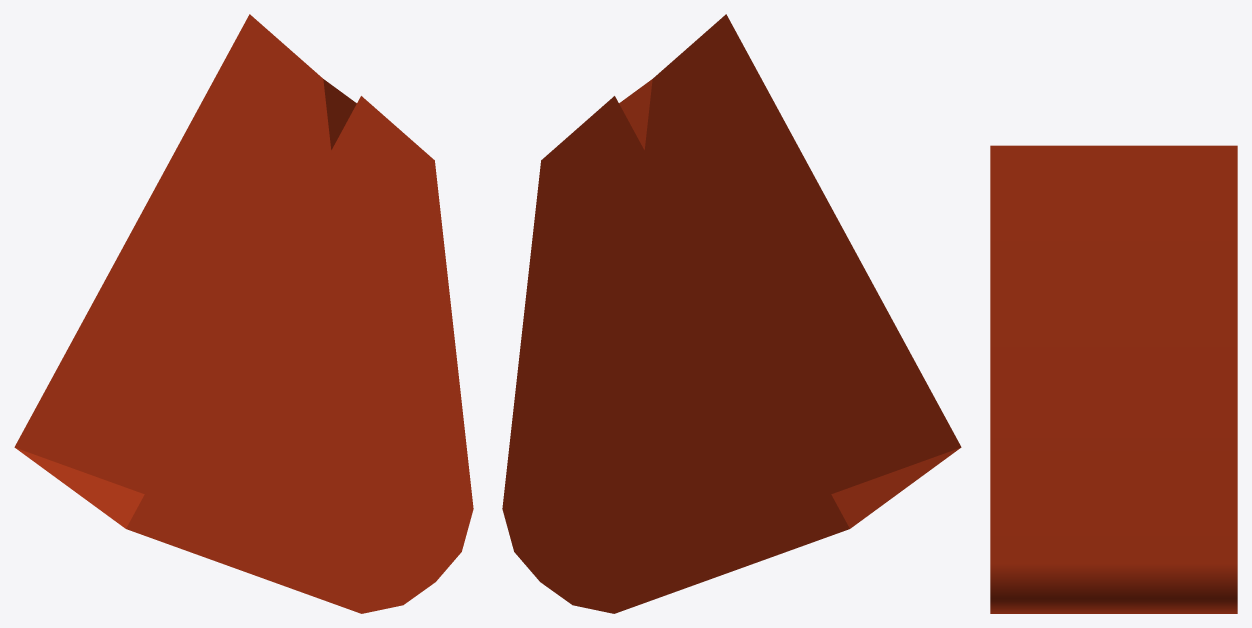
The model's file is GL6_Trigger.fbx.
3 renders of one model, left to right at view 1: azimuth 30°, elevation 25°; view 2: azimuth 150°, elevation 25°; view 3: azimuth 270°, elevation 25°, orthographic. The views are drawn at different scales.
Visible parts, largest first — view 1: GL6_Trigger; view 2: GL6_Trigger; view 3: GL6_Trigger.
Part boxes in pixels (x1,y1,x2,y2): GL6_Trigger: [14, 14, 473, 613]; GL6_Trigger: [502, 14, 961, 613]; GL6_Trigger: [990, 145, 1237, 613].
Size of the model in its own units: 3.84 by 5.49 by 2.13.
